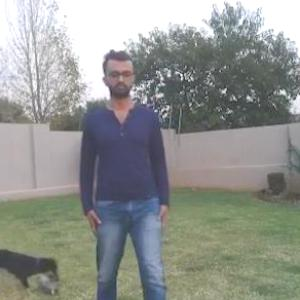follow: (77, 48, 169, 299)
